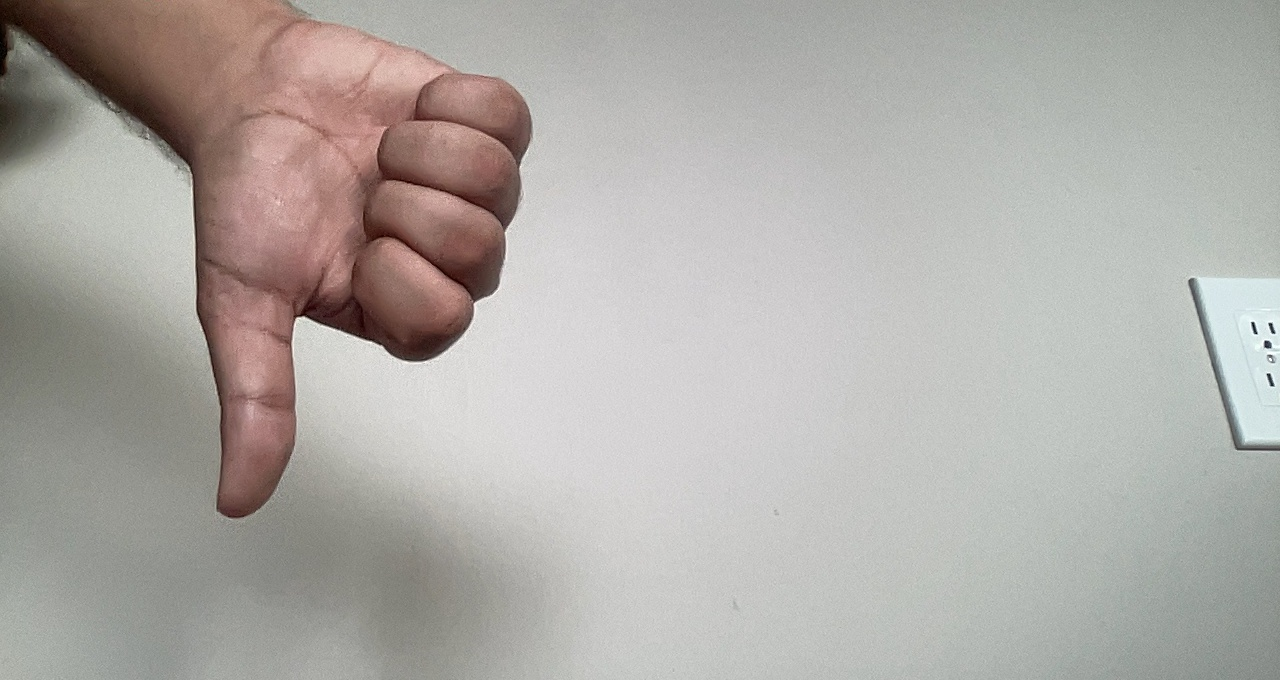thumbsdown: (159, 13, 550, 546)
